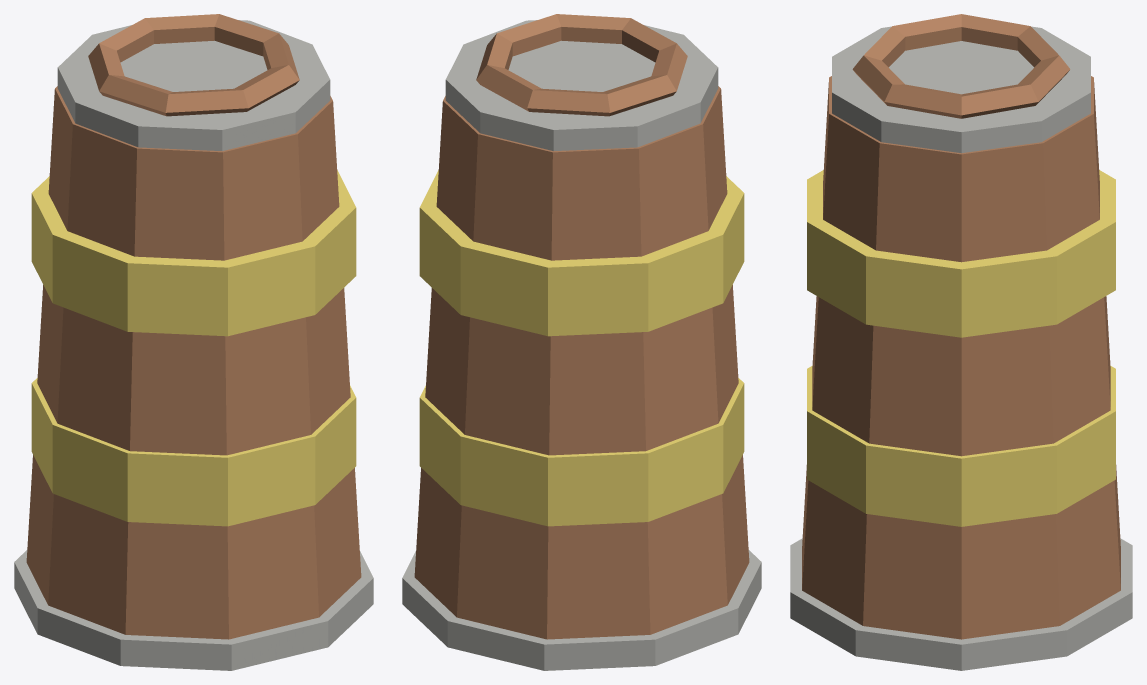
File: wipe-day-survival-island-road-barrel-red-5e96c2e1__27444.glb
The picture shows the model from 3 angles, left to right: view 1: azimuth 30°, elevation 25°; view 2: azimuth 150°, elevation 25°; view 3: azimuth 270°, elevation 25°; orthographic projection.
Visible parts, largest first — view 1: road-barrel-red; view 2: road-barrel-red; view 3: road-barrel-red.
Boxes of the visible parts, box(x1,y1,x2,y2) form: road-barrel-red: box(14, 14, 373, 670); road-barrel-red: box(402, 14, 761, 670); road-barrel-red: box(790, 14, 1132, 670).
Bounding box in the file's own units: 0.62 × 1.03 × 0.5897.
